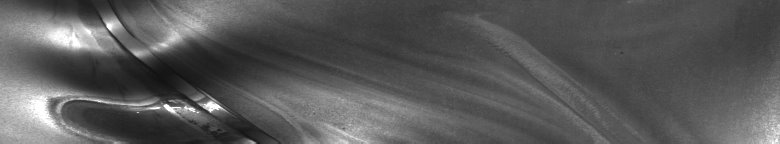ke: (45, 4, 232, 136)
